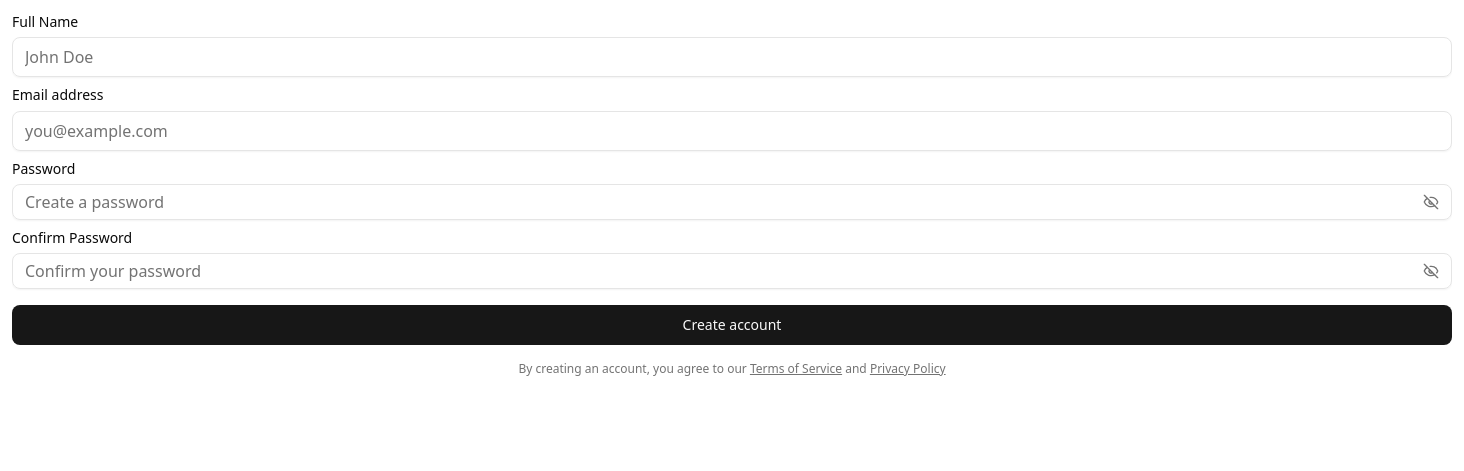
Test: RegisterForm › shows validation error for non-matching passwords
The width and height of the screenshot is (1464, 471).
In the password field labelled "Password": (718, 202) [13, 182, 1423, 222], type "1234"
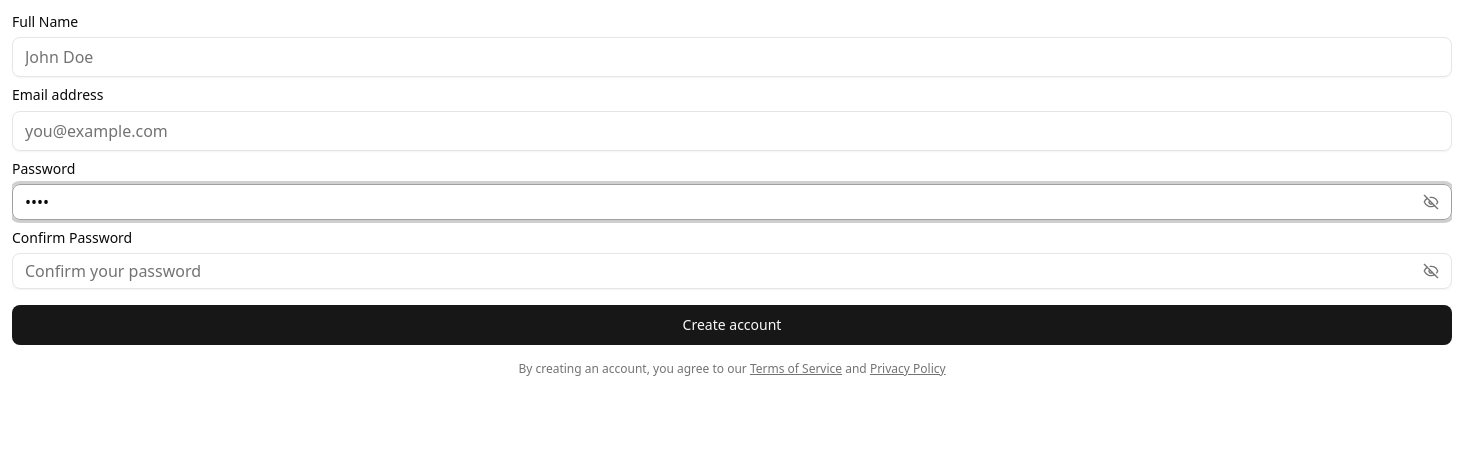
In the password field labelled "Confirm Password": (718, 271) [13, 251, 1423, 291], type "4321"
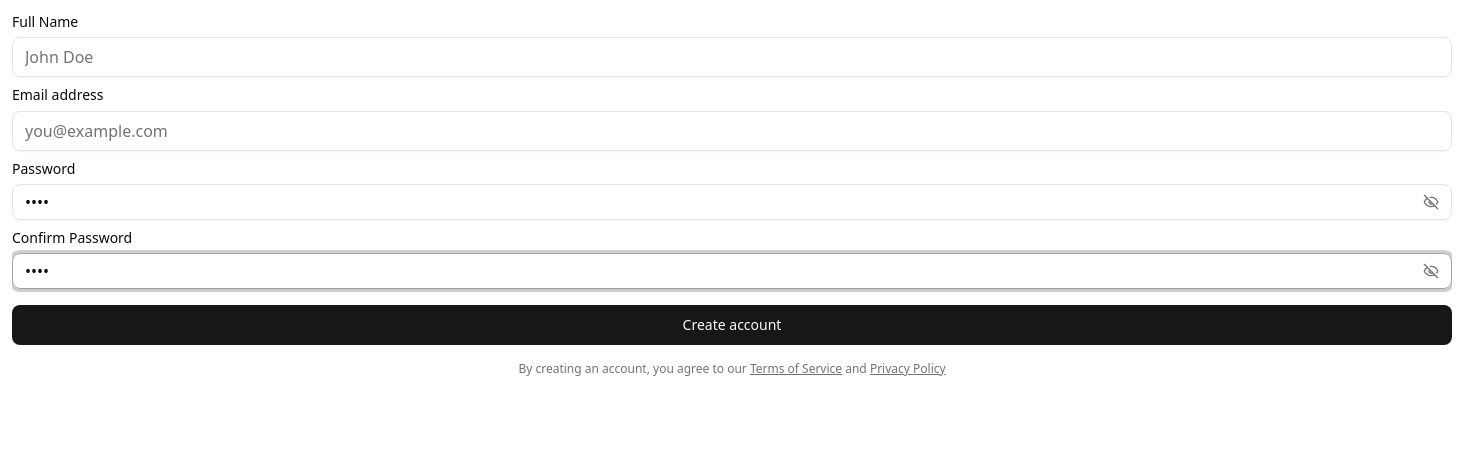
Click the button "Create account": (732, 325) [12, 305, 1452, 345]
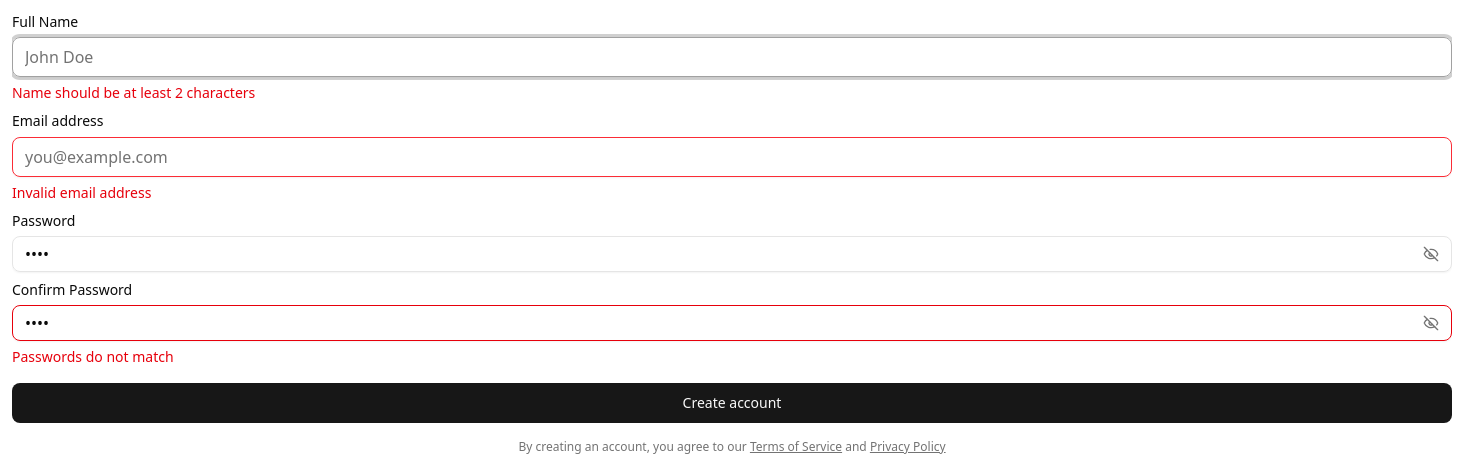
Expected: the text "Passwords do not match" is shown, [12, 347, 174, 366]
